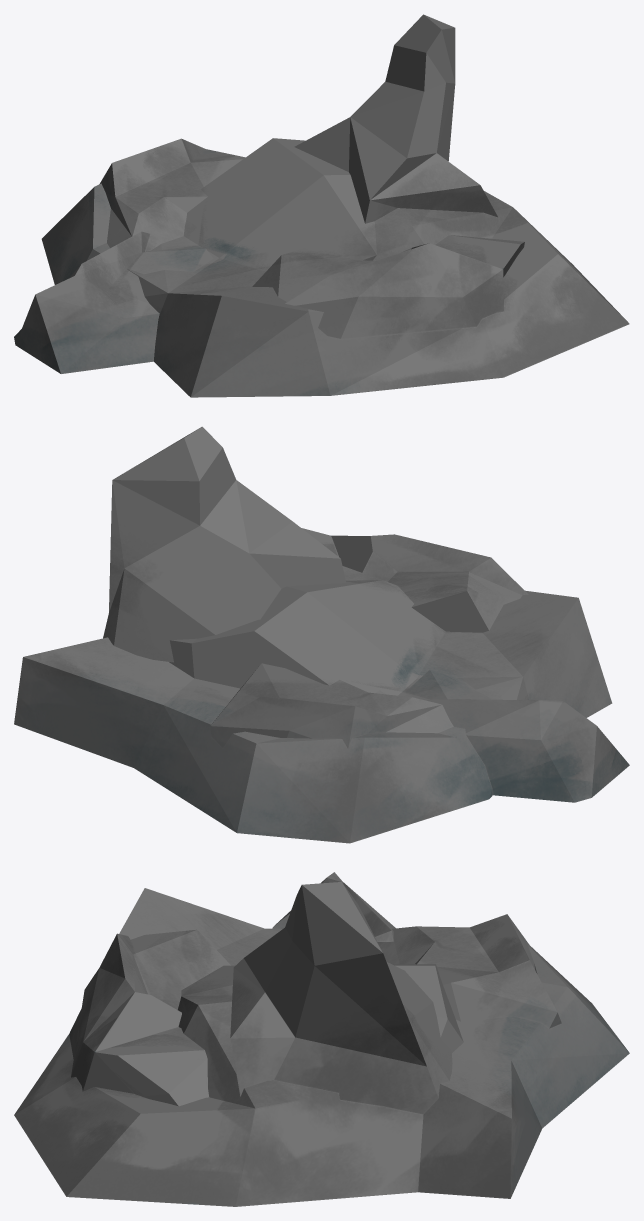
Rendered from Guitar Base.fbx.
3 renders of one model, top to bottom at view 1: azimuth 30°, elevation 25°; view 2: azimuth 150°, elevation 25°; view 3: azimuth 270°, elevation 25°, orthographic. The views are drawn at different scales.
Visible parts, largest first — view 1: Plane.001; view 2: Plane.001; view 3: Plane.001.
Boxes of the visible parts, x1,y1,x2,y2 form: Plane.001: (14,14,629,397); Plane.001: (14,426,629,843); Plane.001: (14,872,629,1206).
Bounding box in the file's own units: 361 × 165 × 343.
1 material, 1 textured.
